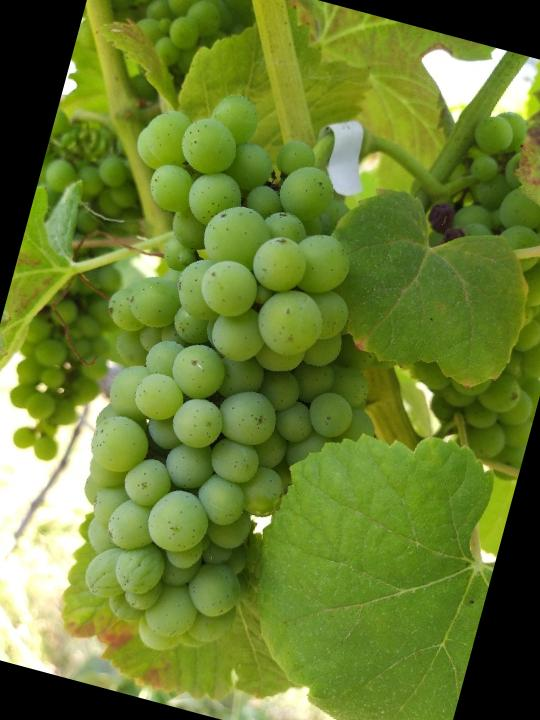grape: (10, 70, 451, 696)
